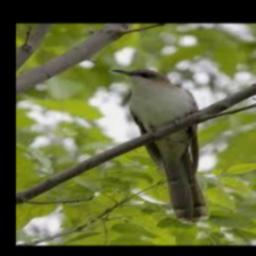Cuckoo: (112, 69, 210, 222)
